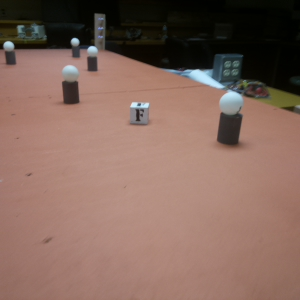blockF: (129, 100, 150, 128)
corner: (93, 10, 108, 50)
obstacle: (218, 91, 245, 147), (60, 64, 79, 106), (86, 44, 100, 71), (3, 40, 18, 65), (70, 38, 82, 57)
